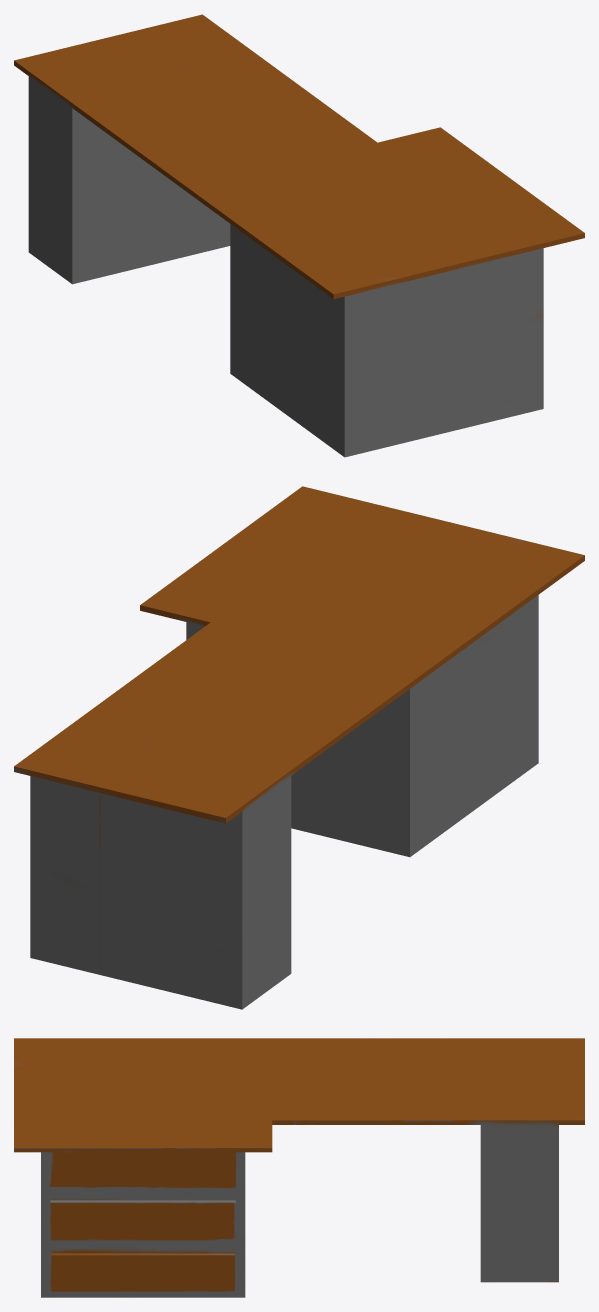
Rendered from DESK3.fbx.
3 renders of one model, top to bottom at view 1: azimuth 30°, elevation 25°; view 2: azimuth 150°, elevation 25°; view 3: azimuth 270°, elevation 25°, orthographic. The views are drawn at different scales.
Visible parts, largest first — view 1: Cube.001; view 2: Cube.001; view 3: Cube.001.
Boxes of the visible parts, left/top/right/bottom form: Cube.001: left=14, top=14, right=584, bottom=457; Cube.001: left=14, top=486, right=584, bottom=1009; Cube.001: left=14, top=1038, right=584, bottom=1297.
Bounding box in the file's own units: 322 × 222 × 709.
1 material, 1 textured.
